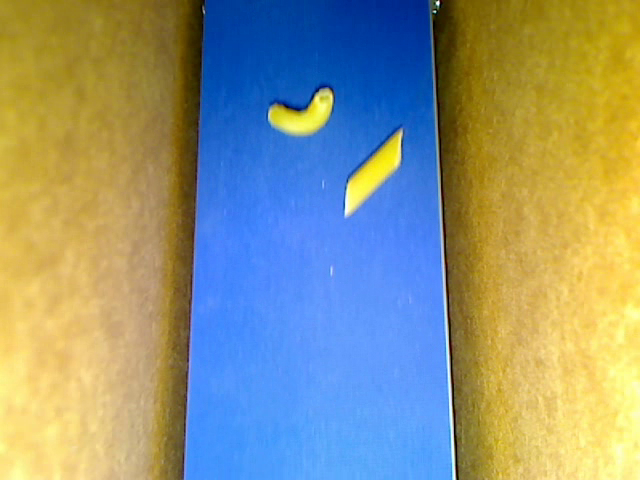elbow: (267, 86, 335, 136)
penne: (344, 128, 403, 217)
